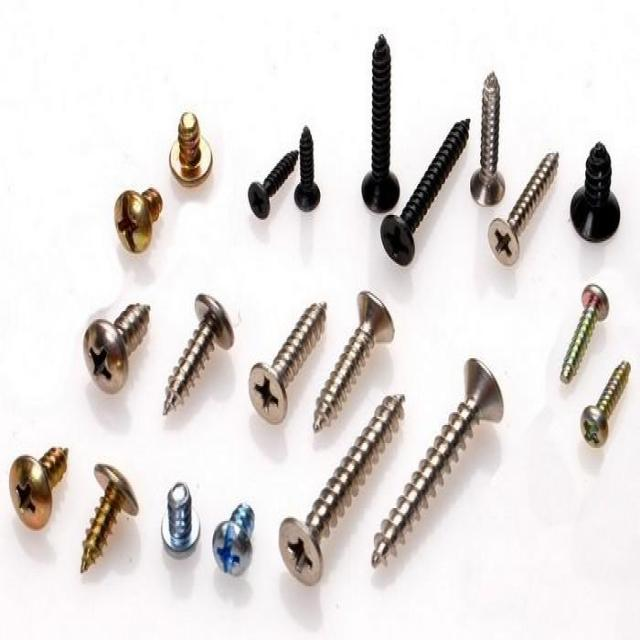Logam: (55, 34, 630, 612)
